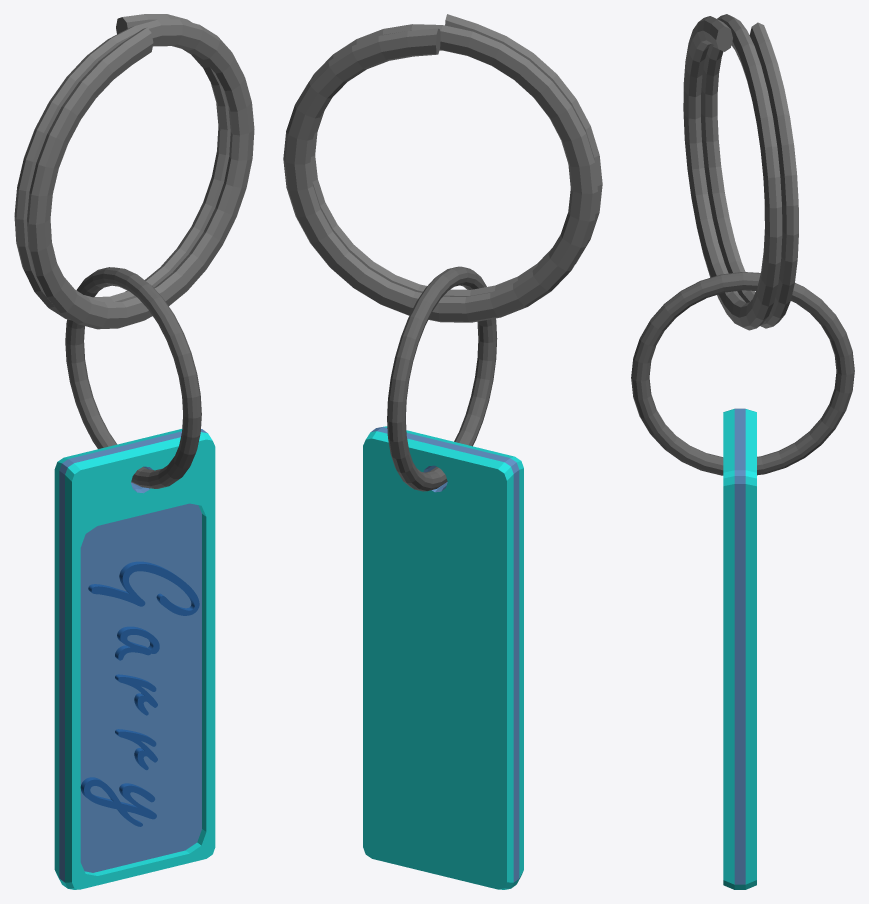
File: brelok.fbx
3 views of the same model, side by side, from view 1: azimuth 30°, elevation 25°; view 2: azimuth 150°, elevation 25°; view 3: azimuth 270°, elevation 25° (orthographic).
Parts seen in each view (by area): view 1: Plane, Plane.001, Circle, Text; view 2: Plane, Plane.001, Circle; view 3: Plane.001, Plane, Circle.
Part boxes in pixels (x1=…): Plane: x1=54, y1=429, x2=215, y2=889; Plane.001: x1=14, y1=14, x2=254, y2=329; Circle: x1=65, y1=267, x2=201, y2=488; Text: x1=80, y1=561, x2=199, y2=826; Plane: x1=363, y1=426, x2=523, y2=889; Plane.001: x1=283, y1=14, x2=602, y2=322; Circle: x1=387, y1=266, x2=497, y2=491; Plane.001: x1=683, y1=14, x2=798, y2=330; Plane: x1=723, y1=408, x2=756, y2=889; Circle: x1=631, y1=272, x2=854, y2=475.
Size of the model in its own units: 380 by 1131 by 275.
